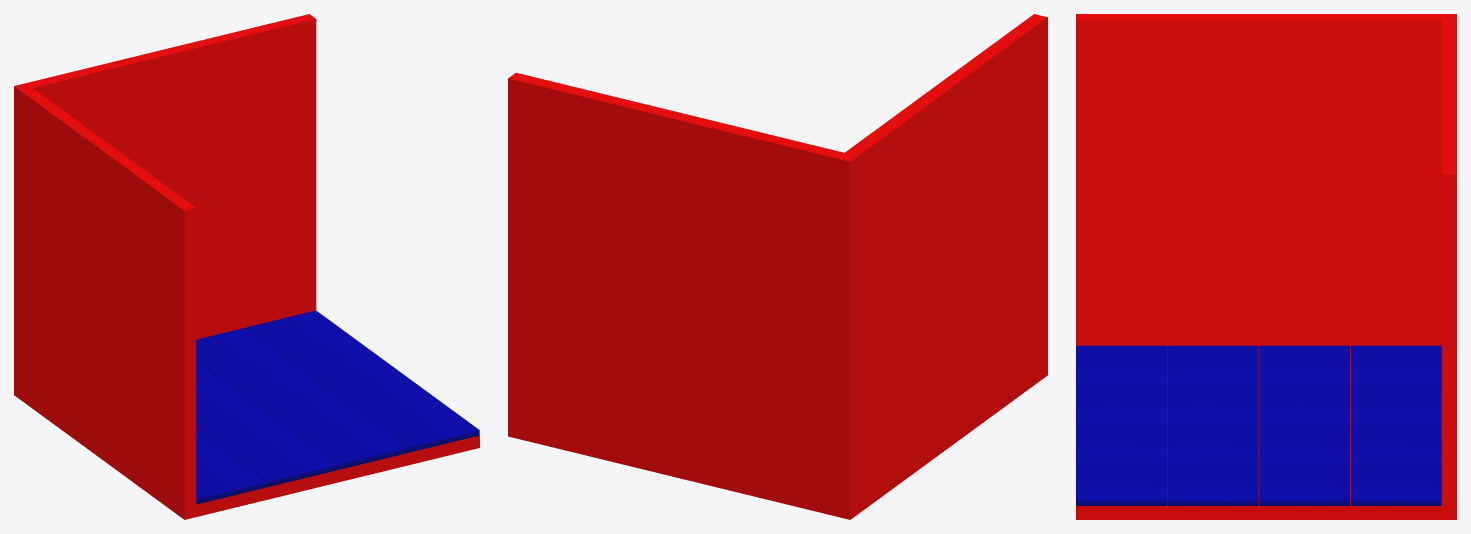
File: background.glb
3 renders of one model, left to right at view 1: azimuth 30°, elevation 25°; view 2: azimuth 150°, elevation 25°; view 3: azimuth 270°, elevation 25°, orthographic. The views are drawn at different scales.
Visible parts, largest first — view 1: room2_wall; view 2: room2_wall; view 3: room2_wall.
Boxes of the visible parts, x1,y1,x2,y2 form: room2_wall: [14, 14, 479, 519]; room2_wall: [508, 14, 1047, 519]; room2_wall: [1076, 14, 1456, 519].
Size of the model in its own units: 12.5 by 12.5 by 12.5.
Materials: 1 (1 with a texture image).
